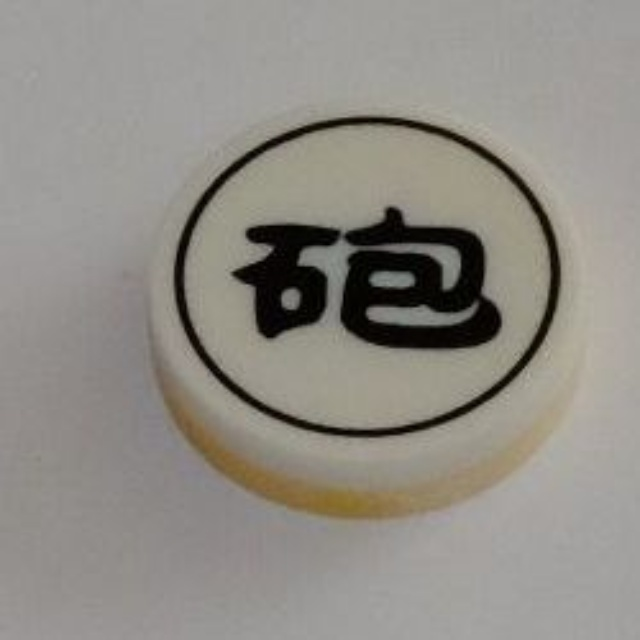black_phao: (146, 94, 596, 521)
